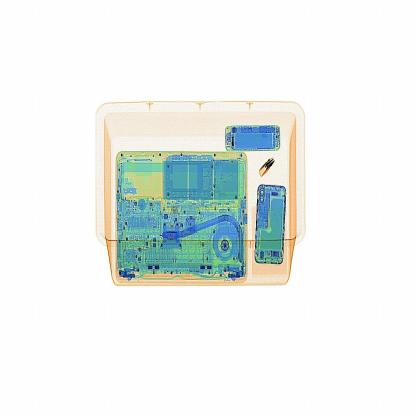wrench: (252, 154, 276, 180)
